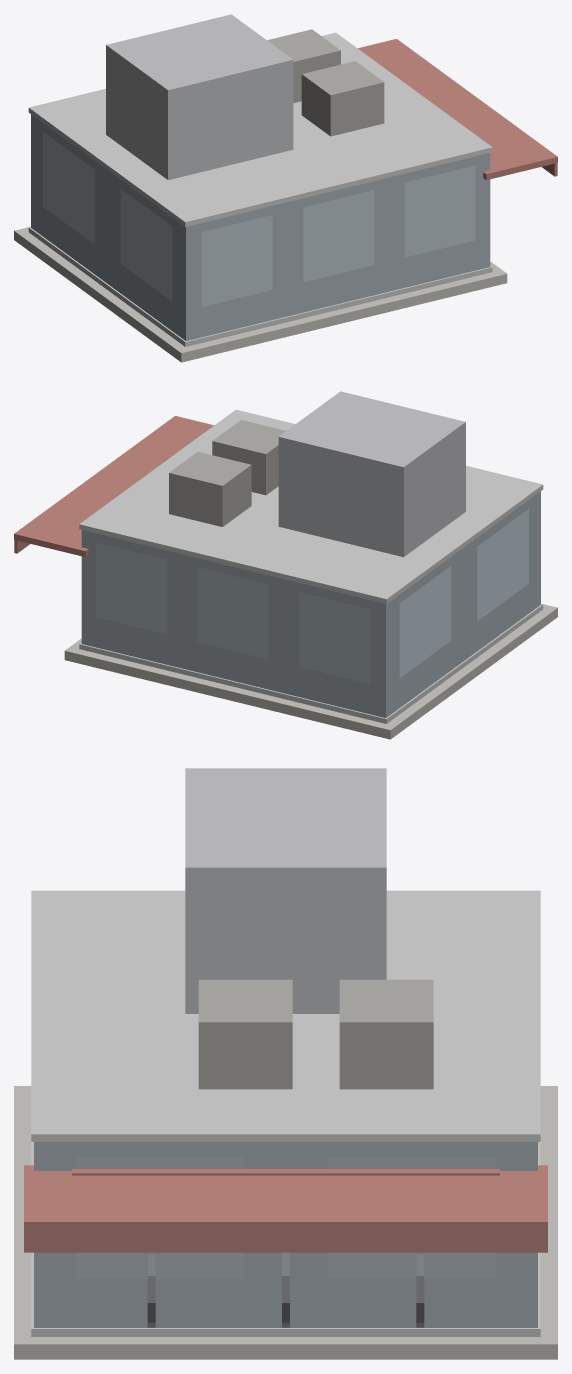
The model's file is 11_retail_shops-06.glb.
The picture shows the model from 3 angles, top to bottom: view 1: azimuth 30°, elevation 25°; view 2: azimuth 150°, elevation 25°; view 3: azimuth 270°, elevation 25°; orthographic projection. The views are drawn at different scales.
Size of the model in its own units: 10.6 by 5.98 by 8.1.
